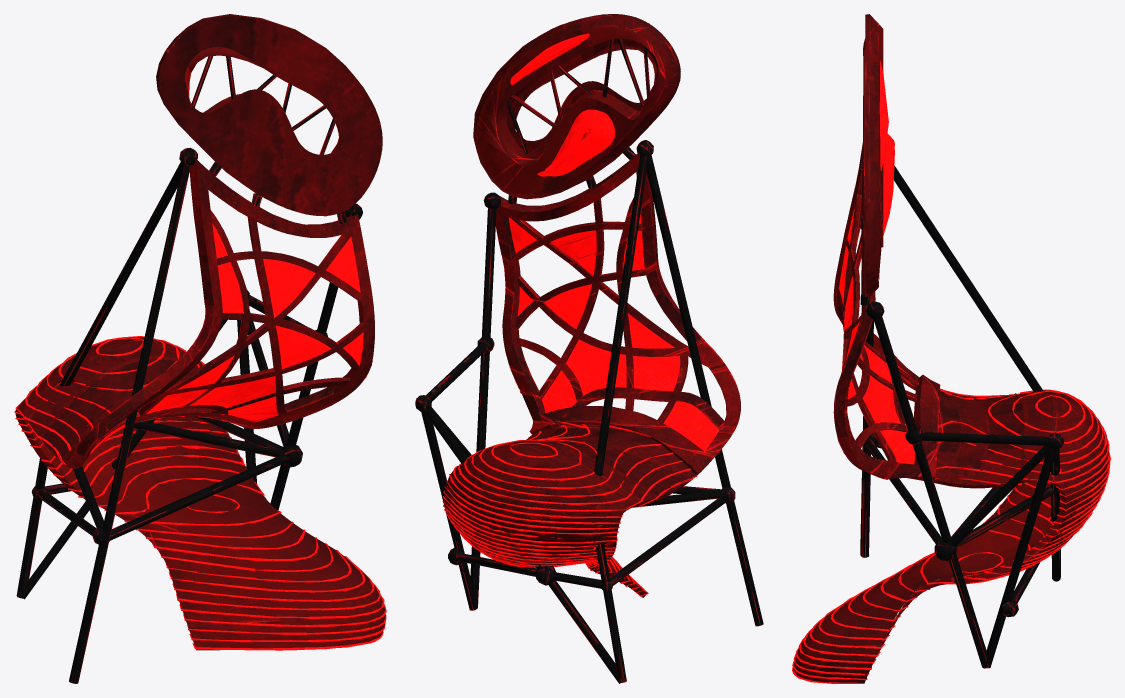
The model's file is mermaid-chair-red-v3.glb.
The picture shows the model from 3 angles, left to right: view 1: azimuth 30°, elevation 25°; view 2: azimuth 150°, elevation 25°; view 3: azimuth 270°, elevation 25°; orthographic projection. The views are drawn at different scales.
Parts seen in each view (by area): view 1: mermaid-chair-red; view 2: mermaid-chair-red; view 3: mermaid-chair-red.
Part boxes in pixels (x1,y1,x2,y2): mermaid-chair-red: (14,14,386,683); mermaid-chair-red: (415,14,763,683); mermaid-chair-red: (792,14,1110,683).
Size of the model in its own units: 0.6194 by 1.19 by 0.5734.
Materials: 1 (1 with a texture image).
